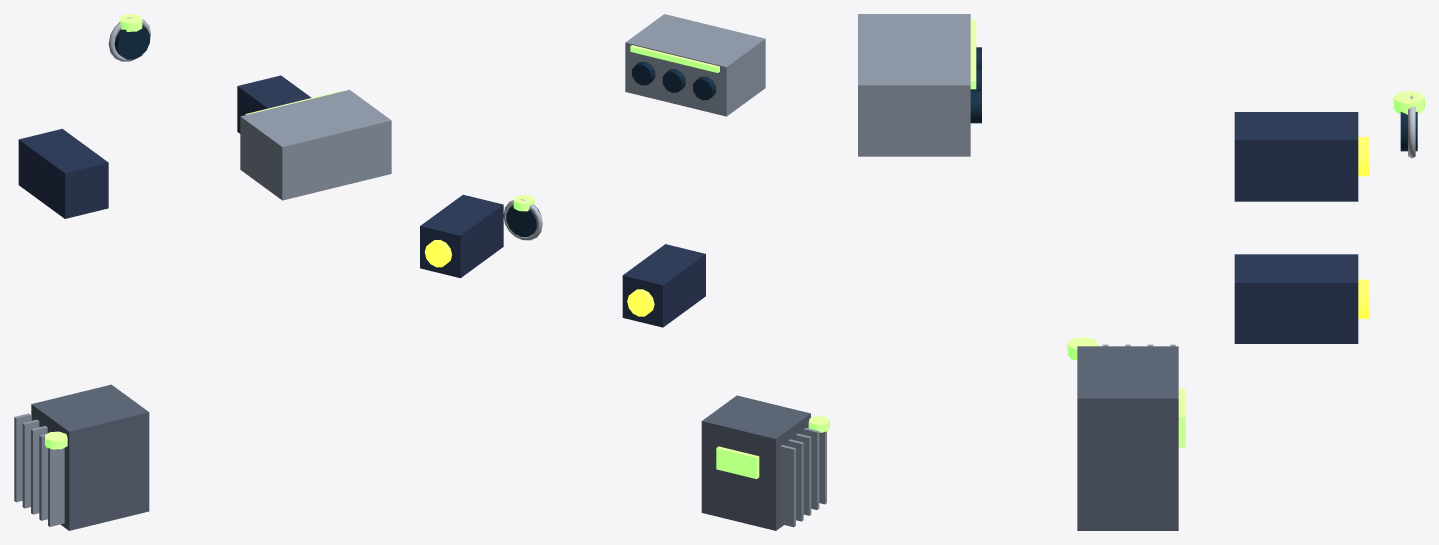
Rendered from tower_detector_analysis_s7.glb.
3 renders of one model, left to right at view 1: azimuth 30°, elevation 25°; view 2: azimuth 150°, elevation 25°; view 3: azimuth 270°, elevation 25°, orthographic. The views are drawn at different scales.
Parts seen in each view (by area): view 1: detector_cluster, detector_recorder, detector_mark_projector_b, detector_recorder_fins, detector_mark_projector, detector_analysis_lens; view 2: detector_recorder, detector_cluster, detector_mark_projector_b, detector_mark_projector, detector_recorder_fins, detector_recorder_face, detector_analysis_lens, detector_cluster_bar, detector_mark_lens_b, detector_mark_lens; view 3: detector_recorder, detector_cluster, detector_mark_projector, detector_mark_projector_b.
Boxes of the visible parts, box(x1,y1,x2,y2) form: detector_cluster: box(240, 89, 391, 200); detector_recorder: box(31, 384, 149, 530); detector_mark_projector_b: box(18, 128, 108, 218); detector_recorder_fins: box(14, 413, 64, 526); detector_mark_projector: box(237, 75, 311, 133); detector_analysis_lens: box(114, 25, 149, 59); detector_recorder: box(701, 395, 810, 530); detector_cluster: box(625, 14, 765, 116); detector_mark_projector_b: box(622, 244, 705, 327); detector_mark_projector: box(420, 194, 503, 278); detector_recorder_fins: box(780, 428, 826, 527); detector_recorder_face: box(716, 446, 759, 478); detector_analysis_lens: box(506, 205, 540, 236); detector_cluster_bar: box(630, 45, 719, 72); detector_mark_lens_b: box(627, 289, 654, 316); detector_mark_lens: box(424, 240, 451, 267); detector_recorder: box(1077, 346, 1178, 530); detector_cluster: box(858, 14, 970, 156); detector_mark_projector: box(1234, 254, 1358, 343); detector_mark_projector_b: box(1234, 112, 1358, 201).
Size of the model in its own units: 0.928 by 1.08 by 1.01.
